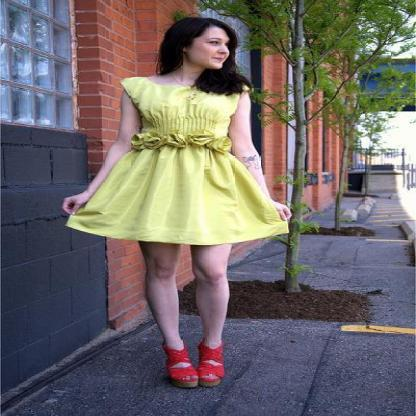dress: (66, 76, 288, 248)
shoe: (162, 343, 224, 384)
